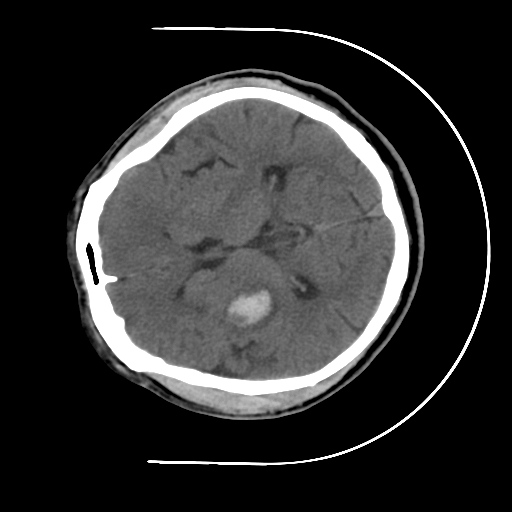a: (211, 276, 286, 336)
